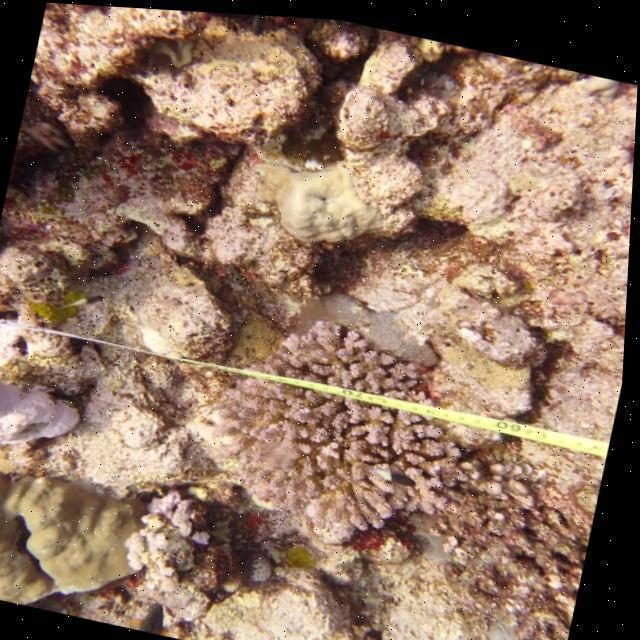Bleached Coral: (0, 362, 99, 464), (0, 294, 76, 387)
Healthy Coral: (260, 134, 413, 272)
